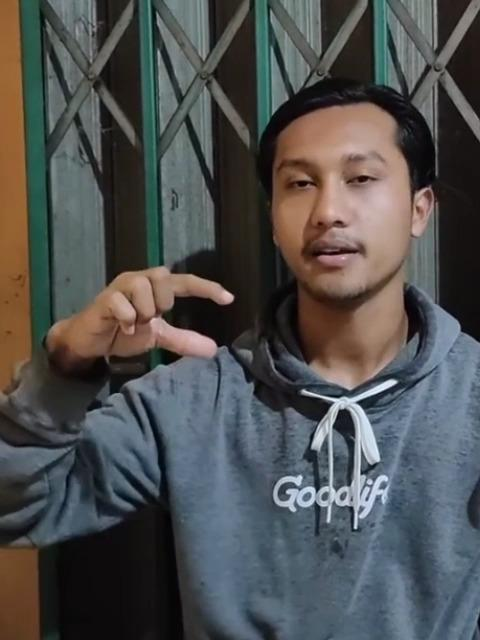G: (55, 264, 241, 372)
